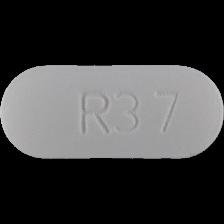13668-037: (0, 0, 224, 224)
